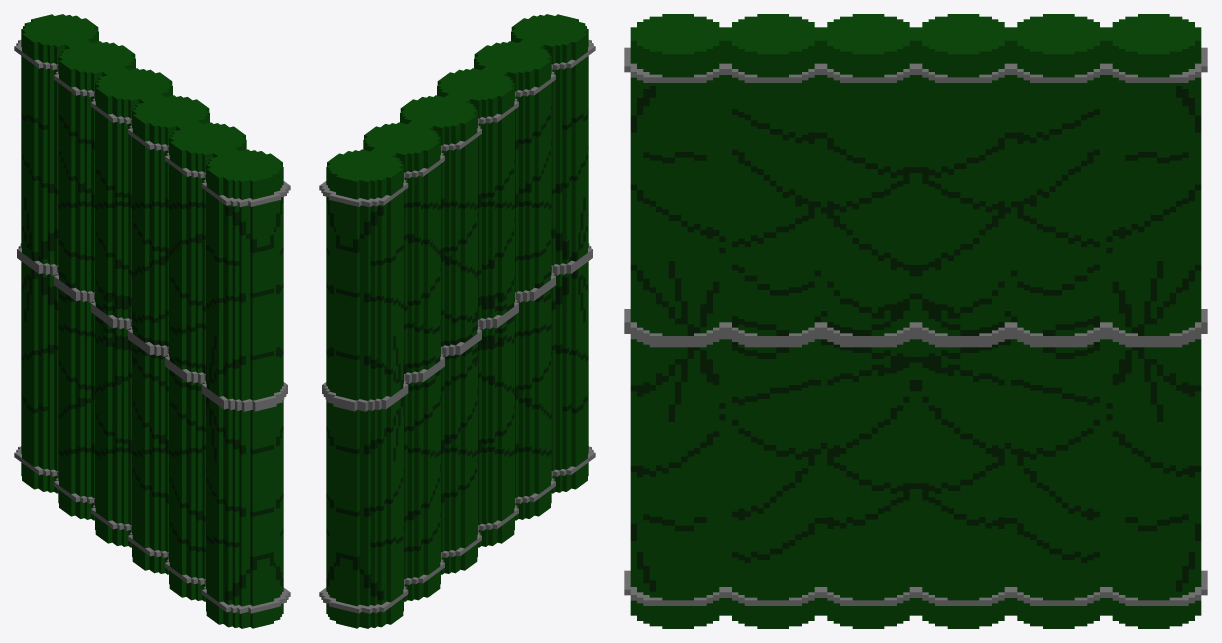
The model's file is Bamboo.obj.
3 views of the same model, side by side, from view 1: azimuth 30°, elevation 25°; view 2: azimuth 150°, elevation 25°; view 3: azimuth 270°, elevation 25° (orthographic). The views are drawn at different scales.
Visible parts, largest first — view 1: Bamboo; view 2: Bamboo; view 3: Bamboo.
Part boxes in pixels (x1=…): Bamboo: x1=14, y1=14, x2=290, y2=628; Bamboo: x1=319, y1=14, x2=595, y2=628; Bamboo: x1=624, y1=14, x2=1207, y2=628.
Size of the model in its own units: 15 by 100 by 92.
1 material, 1 textured.
